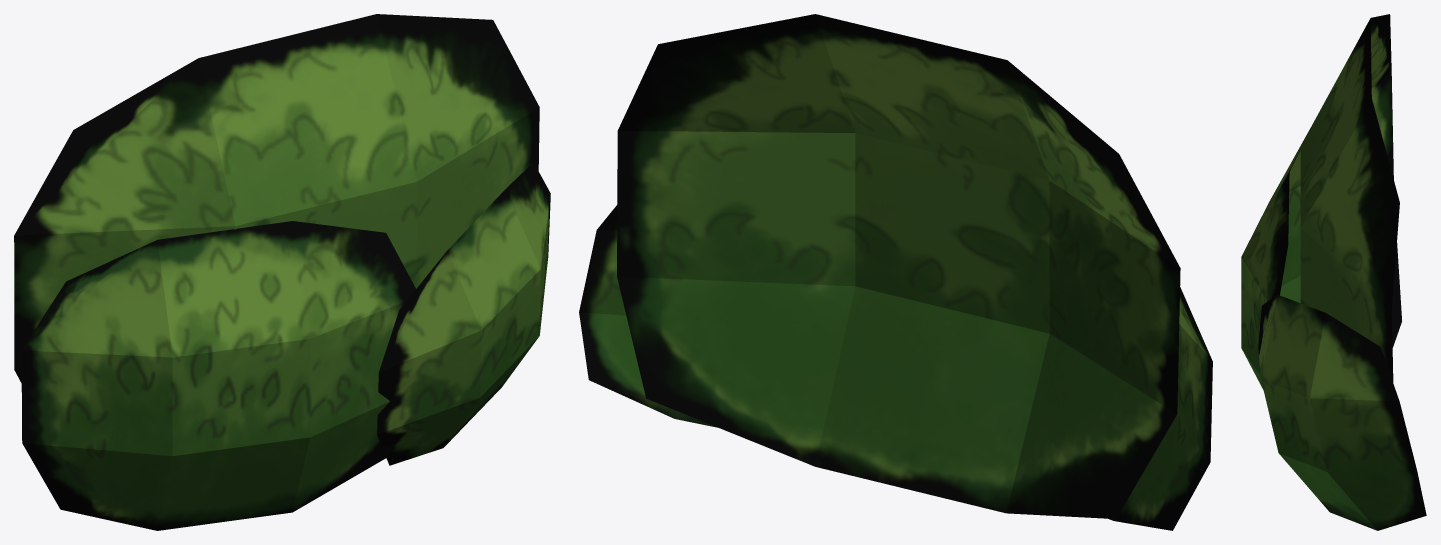
File: bush4.fbx
3 renders of one model, left to right at view 1: azimuth 30°, elevation 25°; view 2: azimuth 150°, elevation 25°; view 3: azimuth 270°, elevation 25°, orthographic. The views are drawn at different scales.
Visible parts, largest first — view 1: Plane.006, Plane.005, Plane.007; view 2: Plane.005, Plane.006, Plane.007; view 3: Plane.007, Plane.005, Plane.006.
Part boxes in pixels (box(x1,y1,x2,y2)): Plane.006: box(21, 221, 415, 530); Plane.005: box(14, 14, 539, 382); Plane.007: box(377, 162, 550, 465); Plane.005: box(617, 14, 1180, 518); Plane.006: box(1048, 183, 1212, 530); Plane.007: box(579, 205, 717, 427); Plane.007: box(1258, 294, 1426, 530); Plane.005: box(1300, 14, 1401, 382); Plane.006: box(1241, 140, 1303, 389).
Size of the model in its own units: 127 by 94.38 by 39.63.
